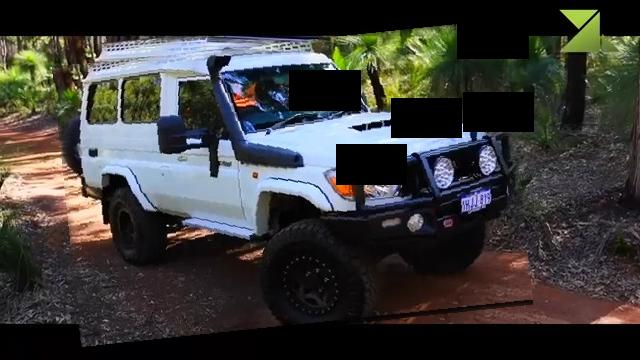MIL_HMMWV: (59, 30, 527, 340)
